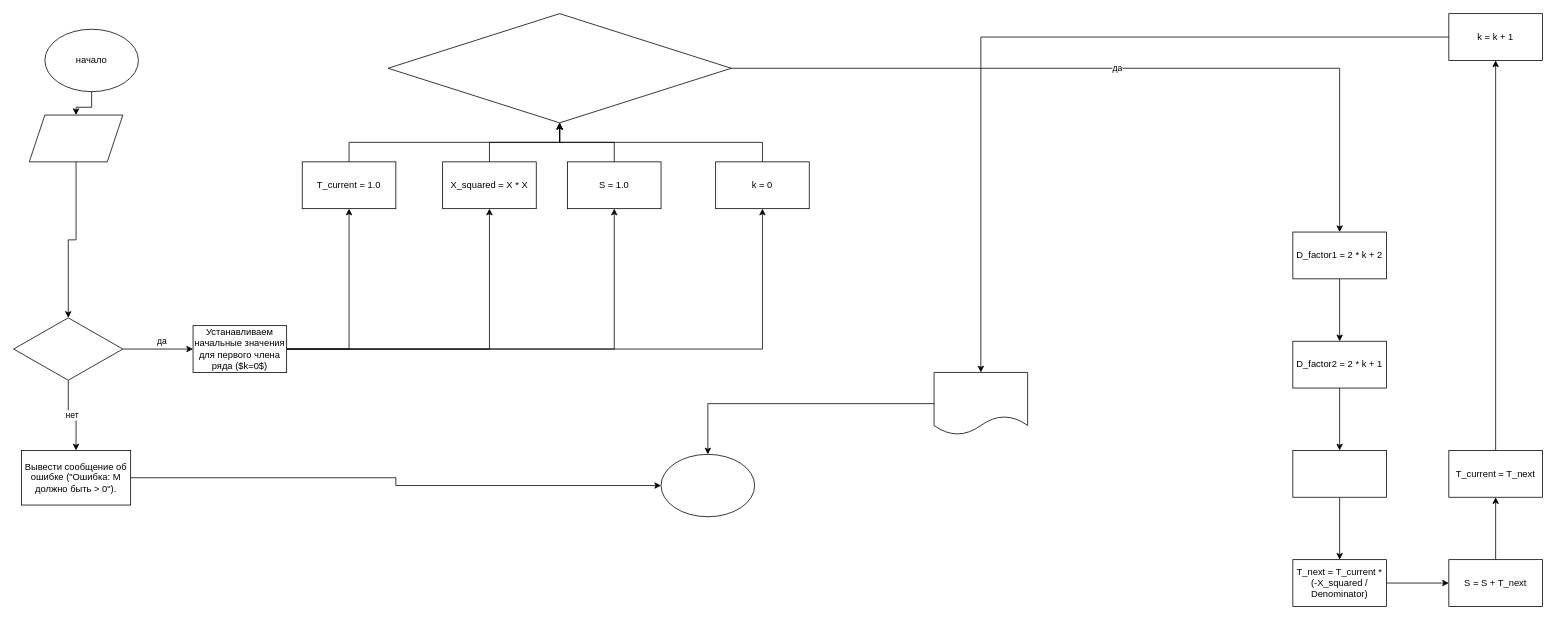
Some shapes in this 1556 by 620 pixel diagram are drawn without their labels. Here are the shapes that lost their labels. From the top down, the centre of each, then its label:
the point at 559,68: k < M - 1?
the point at 75,138: Ввод X, M
the point at 68,348: M > 0?
the point at 980,403: вывод s
the point at 707,485: Конец
the point at 1339,473: Denominator = D_factor1 * D_factor2
